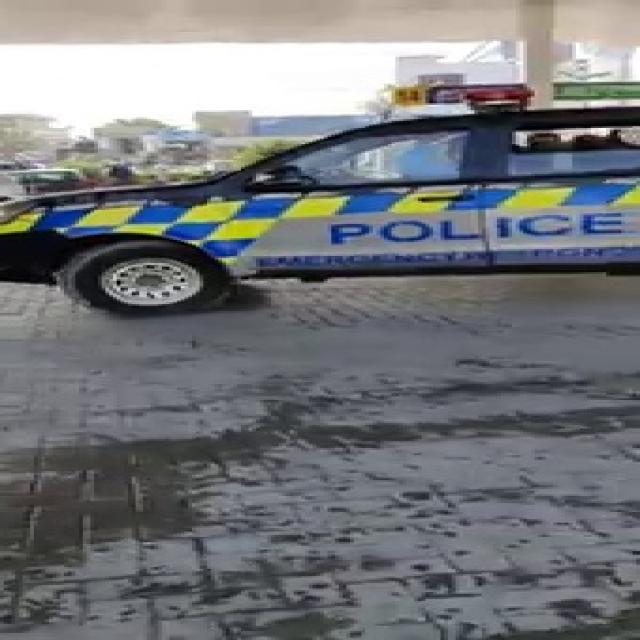police: (7, 58, 640, 307)
